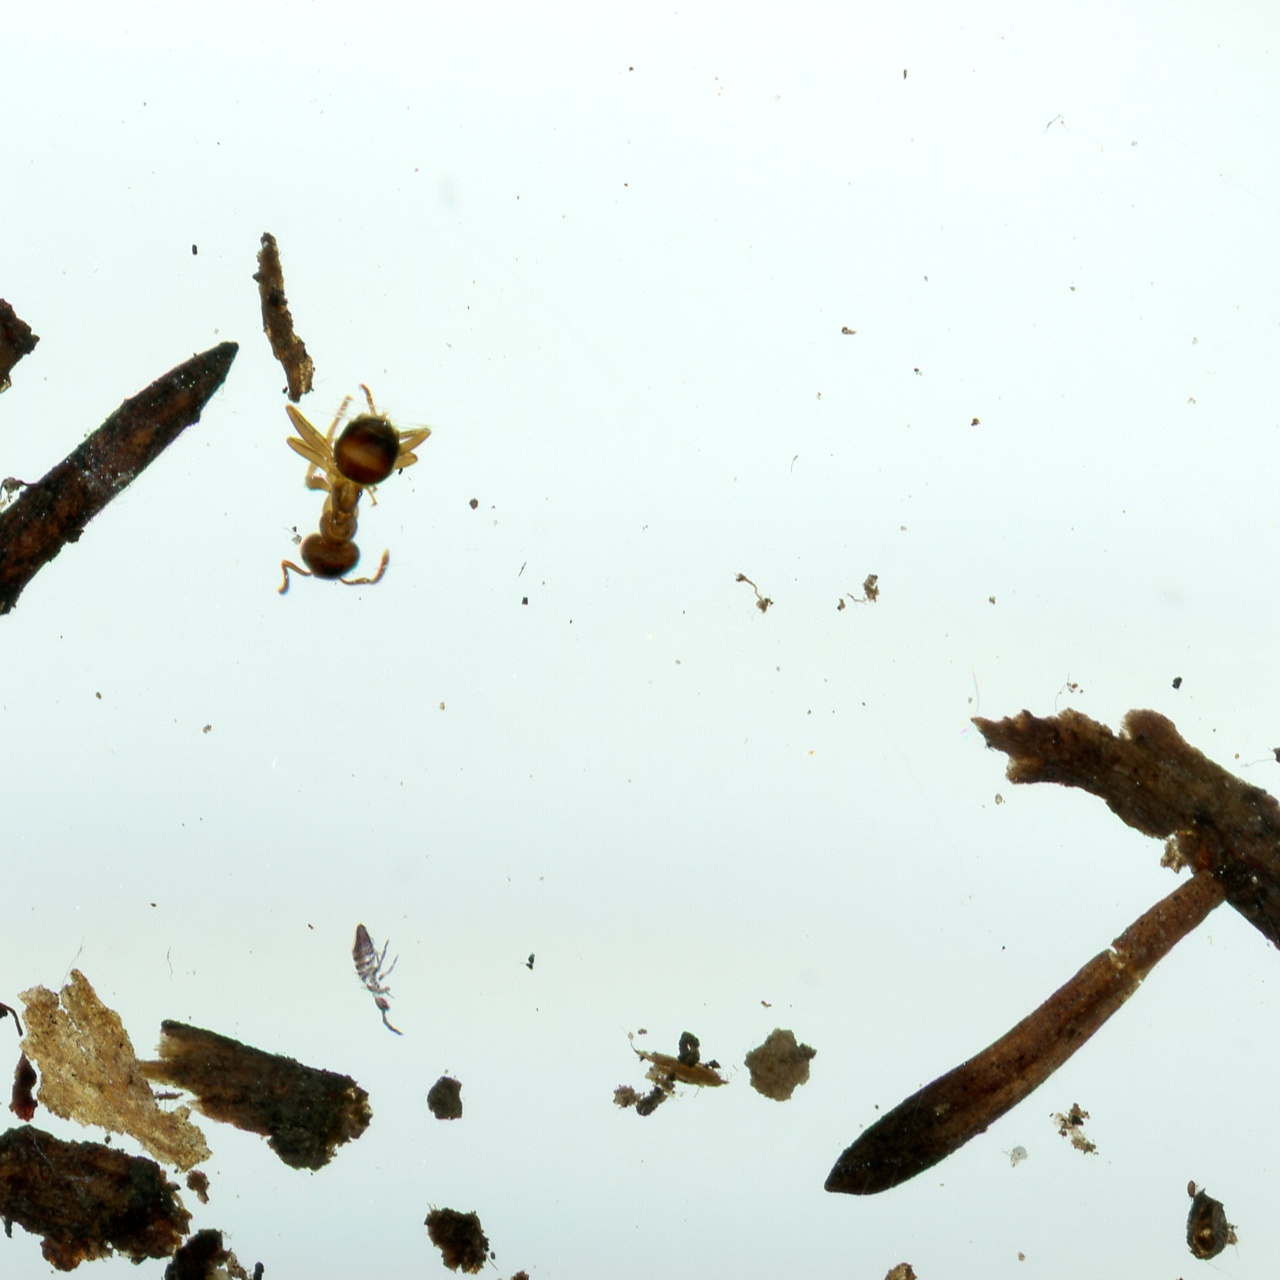arthropod: (272, 382, 434, 601), (335, 912, 425, 1047)
